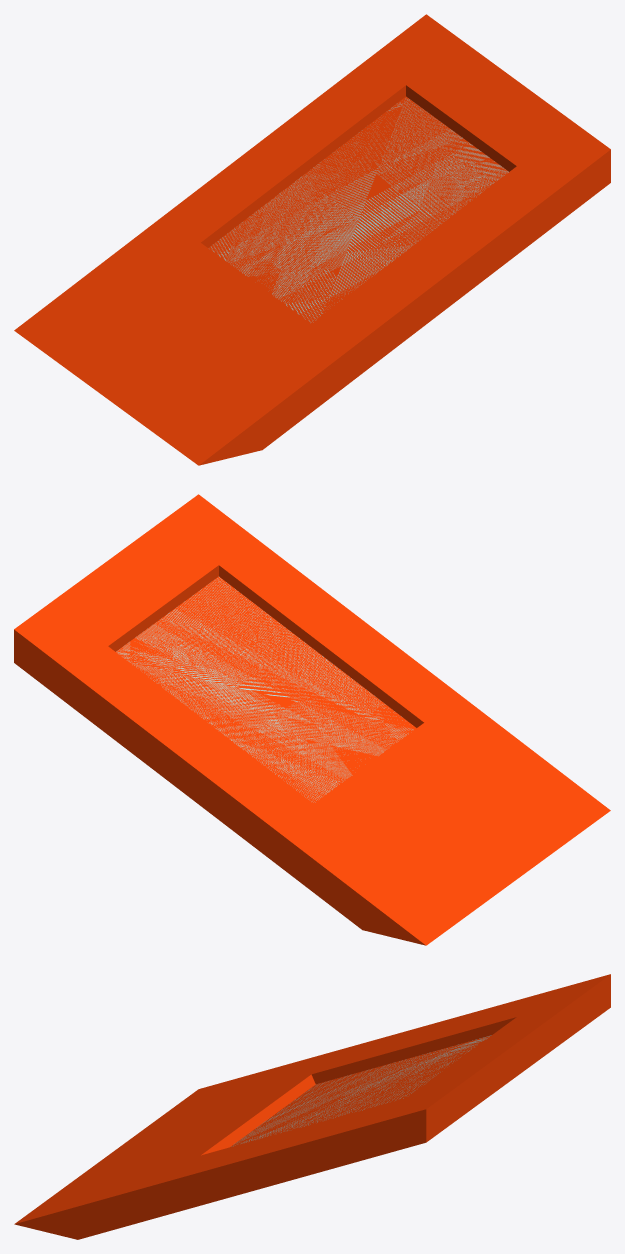
File: roof_small_skylight_1.fbx
The picture shows the model from 3 angles, top to bottom: view 1: azimuth 30°, elevation 25°; view 2: azimuth 150°, elevation 25°; view 3: azimuth 330°, elevation 25°; orthographic projection.
Visible parts, largest first — view 1: Mesh1_sloped_roof_8_1 Model; view 2: Mesh1_sloped_roof_8_1 Model; view 3: Mesh1_sloped_roof_8_1 Model.
Part boxes in pixels (<box>): Mesh1_sloped_roof_8_1 Model: <box>14,14,610,465</box>; Mesh1_sloped_roof_8_1 Model: <box>14,494,610,945</box>; Mesh1_sloped_roof_8_1 Model: <box>14,974,610,1239</box>.
Size of the model in its own units: 1.29 by 0.6447 by 1.
